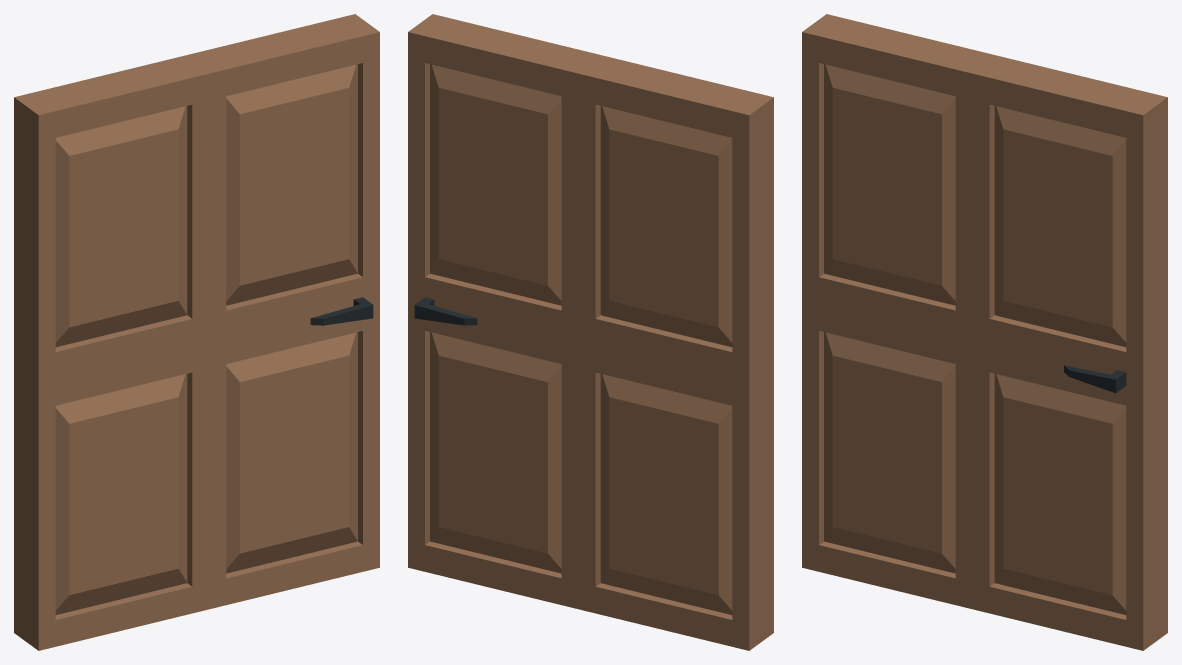
Rendered from door.fbx.
3 views of the same model, side by side, from view 1: azimuth 30°, elevation 25°; view 2: azimuth 150°, elevation 25°; view 3: azimuth 330°, elevation 25° (orthographic).
Parts seen in each view (by area): view 1: Cube, Cube.001; view 2: Cube, Cube.001; view 3: Cube, Cube.001.
Part boxes in pixels (x1,y1,x2,y2): Cube: [14, 14, 379, 650]; Cube.001: [310, 297, 373, 325]; Cube: [408, 14, 773, 650]; Cube.001: [414, 297, 477, 325]; Cube: [802, 14, 1167, 650]; Cube.001: [1064, 365, 1126, 393].
Bounding box in the file's own units: 4 × 6 × 0.9237.
